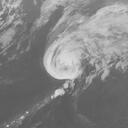cyclone: (43, 34, 88, 80)
